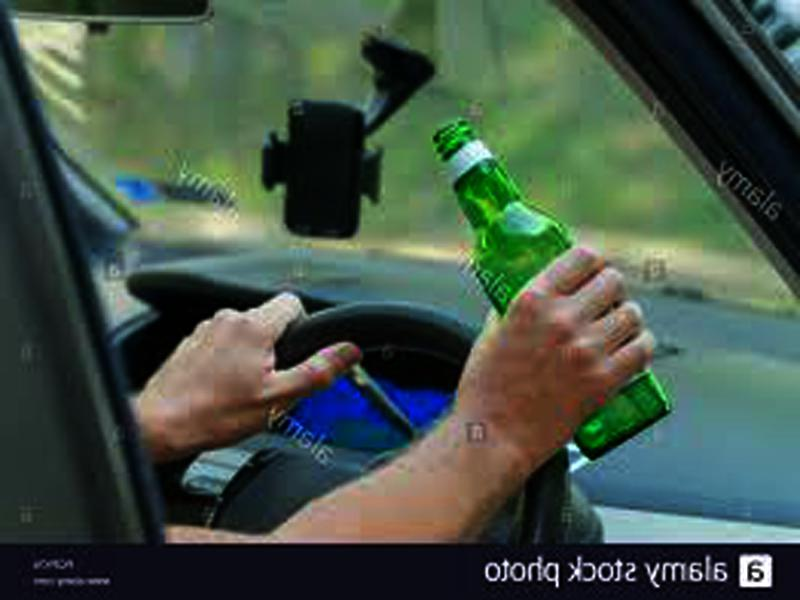Beer: (436, 124, 662, 463)
